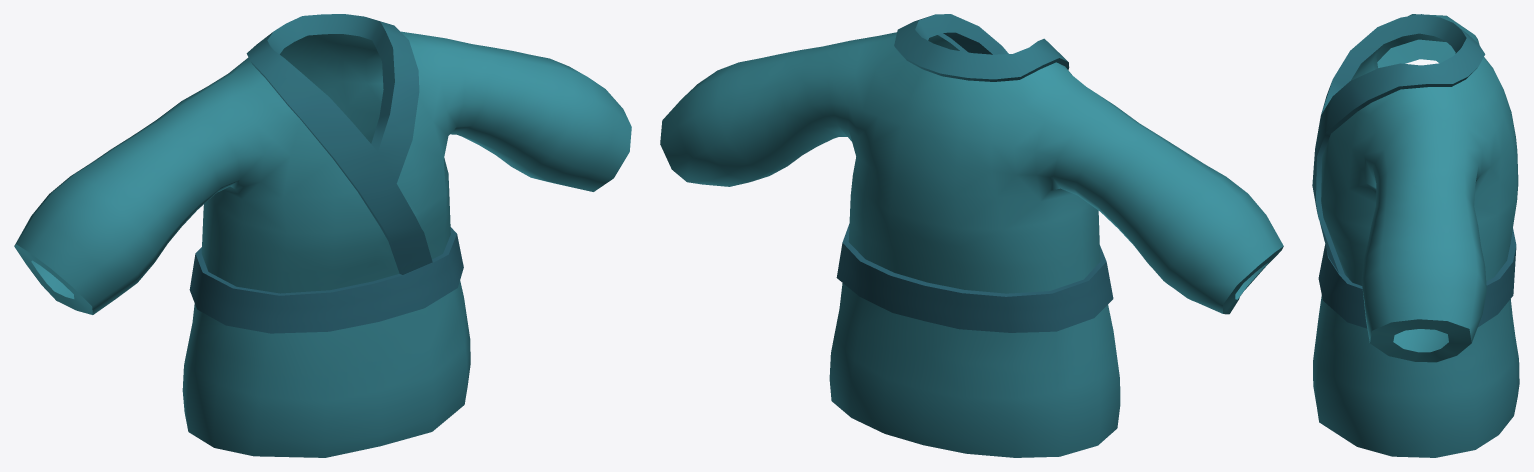
Rendered from Outfit_06.glb.
3 renders of one model, left to right at view 1: azimuth 30°, elevation 25°; view 2: azimuth 150°, elevation 25°; view 3: azimuth 270°, elevation 25°, orthographic. The views are drawn at different scales.
Visible parts, largest first — view 1: Outfit_06; view 2: Outfit_06; view 3: Outfit_06.
Boxes of the visible parts, <box> form: Outfit_06: <box>14,14,631,457</box>; Outfit_06: <box>660,14,1283,457</box>; Outfit_06: <box>1312,14,1519,457</box>.
Size of the model in its own units: 0.6569 by 0.3946 by 0.2062.
Materials: 1 (1 with a texture image).
